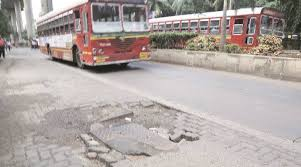pothole: (73, 96, 203, 165)
